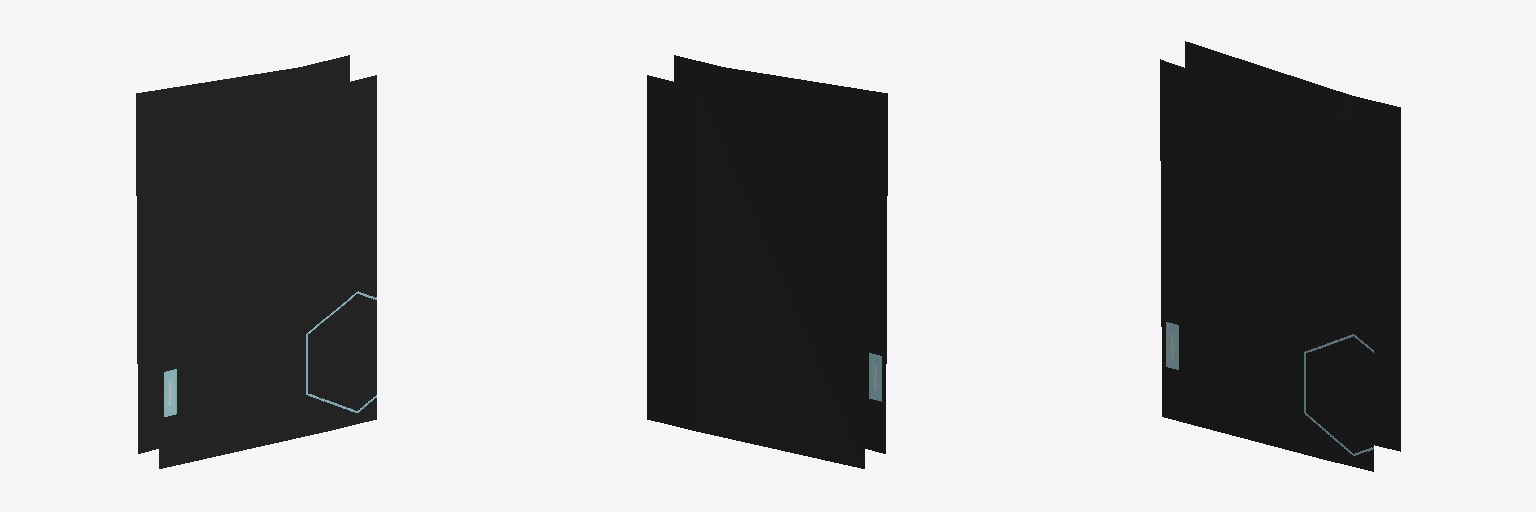
The picture shows the model from 3 angles: view 1: azimuth 30°, elevation 25°; view 2: azimuth 150°, elevation 25°; view 3: azimuth 330°, elevation 25°; orthographic projection.
Visible parts, largest first — view 1: 立方体.001; view 2: 立方体.001; view 3: 立方体.001.
Part boxes in pixels (left/top/right/bottom): 立方体.001: left=136, top=55, right=376, bottom=468; 立方体.001: left=647, top=55, right=887, bottom=468; 立方体.001: left=1160, top=41, right=1400, bottom=471.
Size of the model in its own units: 0.8544 by 1.36 by 0.1879.
1 materials, 1 textured.